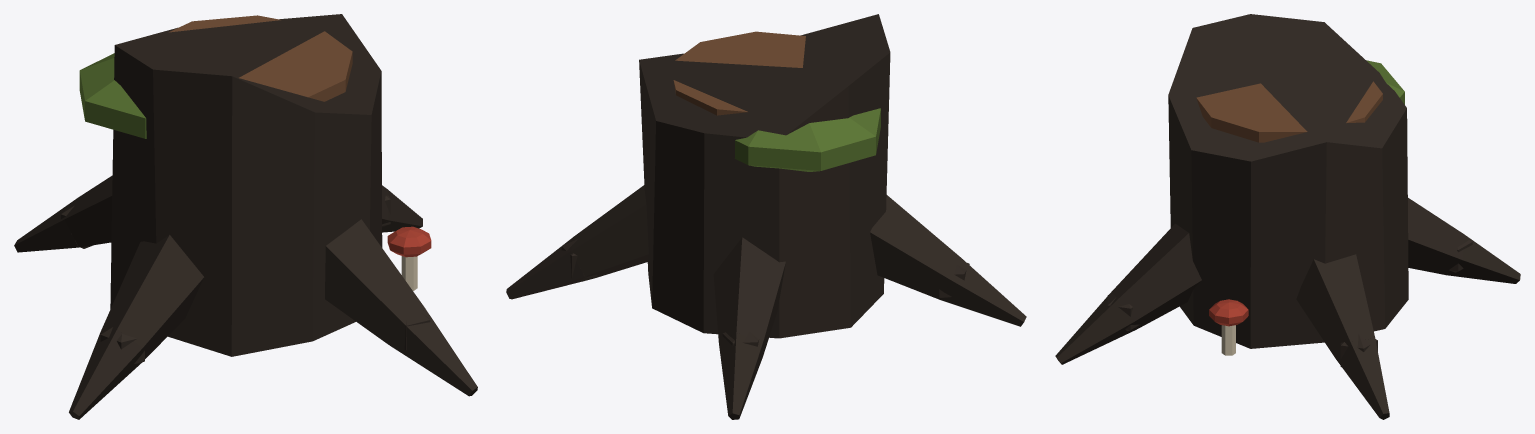
File: stump.glb
The picture shows the model from 3 angles, left to right: view 1: azimuth 30°, elevation 25°; view 2: azimuth 150°, elevation 25°; view 3: azimuth 270°, elevation 25°; orthographic projection. The views are drawn at different scales.
Visible parts, largest first — view 1: Stump; view 2: Stump; view 3: Stump.
Boxes of the visible parts, box(x1,y1,x2,y2) form: Stump: box(14, 14, 477, 419); Stump: box(506, 14, 1026, 419); Stump: box(1055, 14, 1520, 419).
Bounding box in the file's own units: 0.7851 × 0.4965 × 0.7851.
